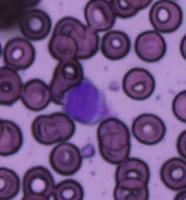L: (62, 76, 118, 125)
